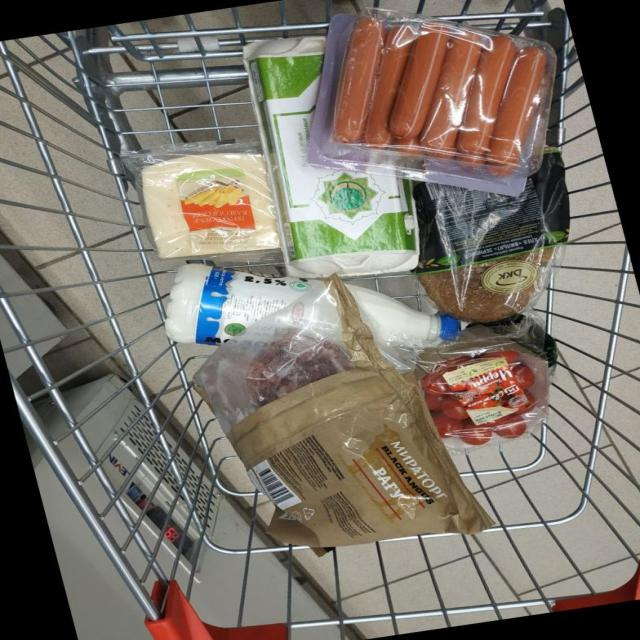Bread: (412, 152, 569, 322)
Cheese: (120, 141, 279, 261)
Eggs: (241, 36, 418, 278)
Meat: (193, 277, 490, 551)
Milk: (164, 264, 316, 345), (346, 284, 459, 349)
Sausages: (306, 8, 555, 196)
Tomatoes: (457, 419, 491, 444), (493, 415, 526, 439), (431, 411, 461, 437), (420, 371, 450, 395), (439, 394, 466, 419), (511, 364, 535, 388), (424, 393, 443, 411)
